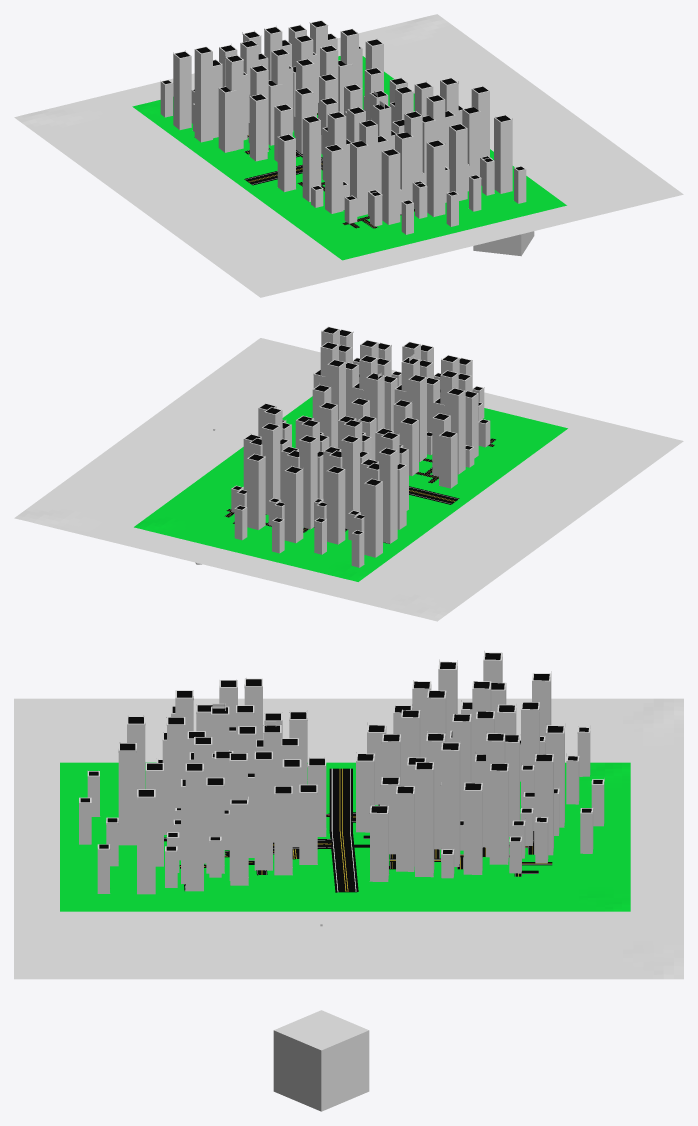
Rendered from City V3.fbx.
3 renders of one model, top to bottom at view 1: azimuth 30°, elevation 25°; view 2: azimuth 150°, elevation 25°; view 3: azimuth 270°, elevation 25°, orthographic. The views are drawn at different scales.
Visible parts, largest first — view 1: Water, City.002, City.001, Grass, Bricky; view 2: Water, City.001, City.002, Grass; view 3: Water, City.001, City.002, Grass, Bricky, Road, Road.001.
Part boxes in pixels (x1,y1,x2,y2): Water: (14, 14, 683, 297); City.002: (277, 77, 526, 234); City.001: (160, 20, 407, 161); Grass: (132, 56, 566, 260); Bricky: (473, 231, 534, 256); Water: (14, 338, 683, 621); City.001: (231, 403, 408, 567); City.002: (312, 326, 490, 488); Grass: (134, 396, 567, 581); Water: (14, 698, 683, 979); City.001: (356, 652, 604, 881); City.002: (79, 678, 326, 894); Grass: (60, 762, 630, 911); Bricky: (273, 1010, 369, 1111); Road: (329, 768, 352, 797); Road.001: (332, 863, 358, 892).
Bounding box in the file's own units: 61247 × 28699 × 61793.
